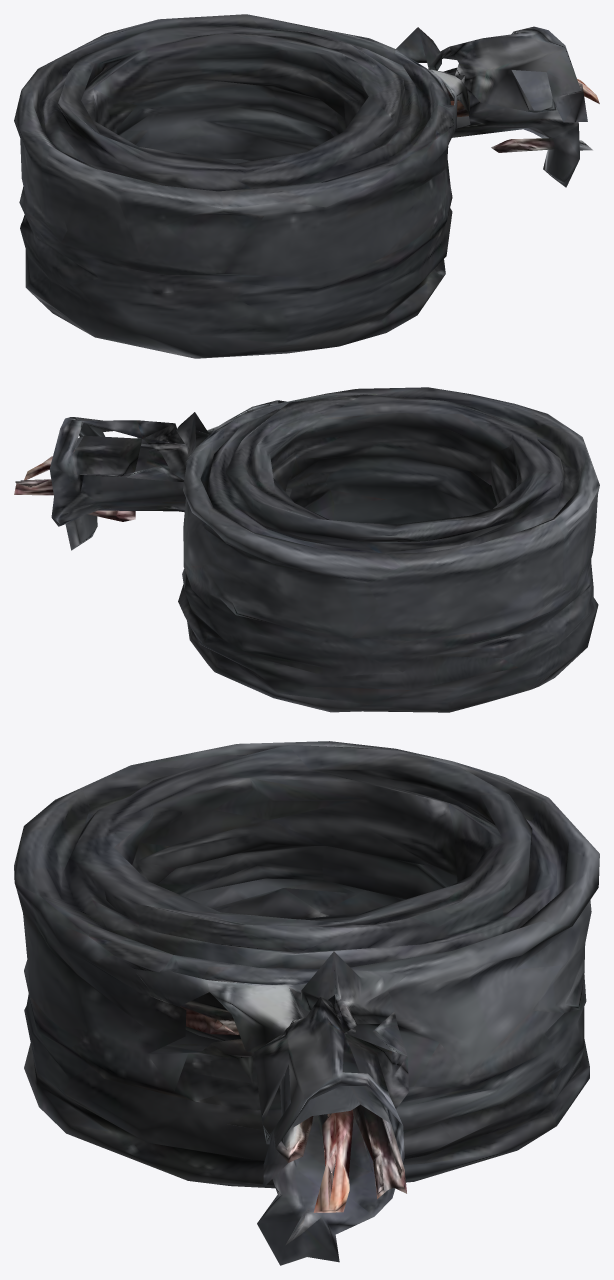
File: qi_cable.glb
3 views of the same model, one above another, from view 1: azimuth 30°, elevation 25°; view 2: azimuth 150°, elevation 25°; view 3: azimuth 270°, elevation 25° (orthographic). The views are drawn at different scales.
Visible parts, largest first — view 1: tripo_node_500b0d21-33e3-431d-a447-1a38e7d0b075; view 2: tripo_node_500b0d21-33e3-431d-a447-1a38e7d0b075; view 3: tripo_node_500b0d21-33e3-431d-a447-1a38e7d0b075.
Boxes of the visible parts, left/top/right/bottom form: tripo_node_500b0d21-33e3-431d-a447-1a38e7d0b075: left=14, top=14, right=599, bottom=358; tripo_node_500b0d21-33e3-431d-a447-1a38e7d0b075: left=14, top=387, right=599, bottom=712; tripo_node_500b0d21-33e3-431d-a447-1a38e7d0b075: left=14, top=741, right=599, bottom=1265.
Bounding box in the file's own units: 1 × 0.3375 × 0.6916.
1 material, 1 textured.
